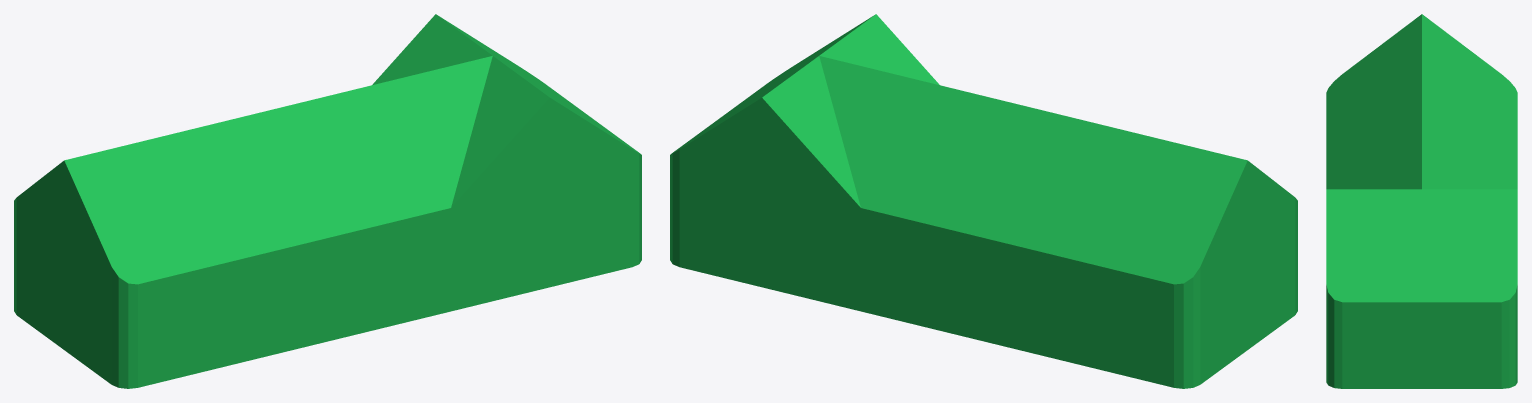
3 renders of one model, left to right at view 1: azimuth 30°, elevation 25°; view 2: azimuth 150°, elevation 25°; view 3: azimuth 270°, elevation 25°, orthographic. The views are drawn at different scales.
Visible parts, largest first — view 1: Cube; view 2: Cube; view 3: Cube.
Boxes of the visible parts, box(x1,y1,x2,y2) form: Cube: box(14, 14, 641, 388); Cube: box(670, 14, 1297, 388); Cube: box(1326, 14, 1517, 388).
Bounding box in the file's own units: 160 × 55 × 60.
